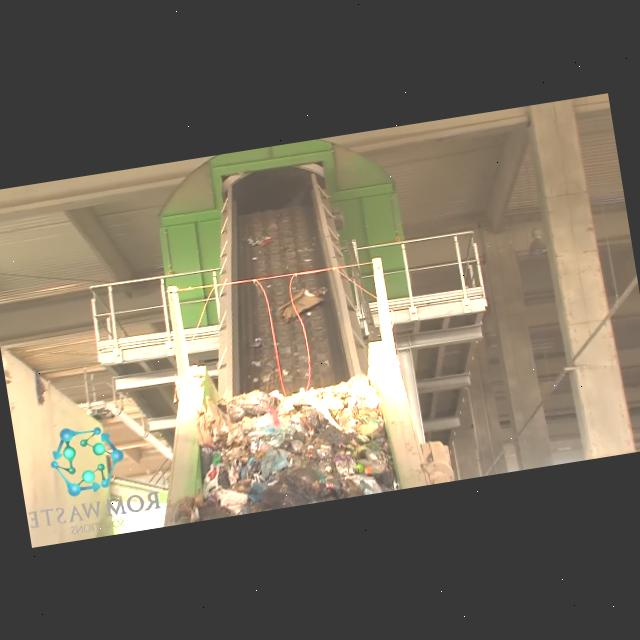trash: (210, 450, 223, 468), (353, 461, 368, 476)
